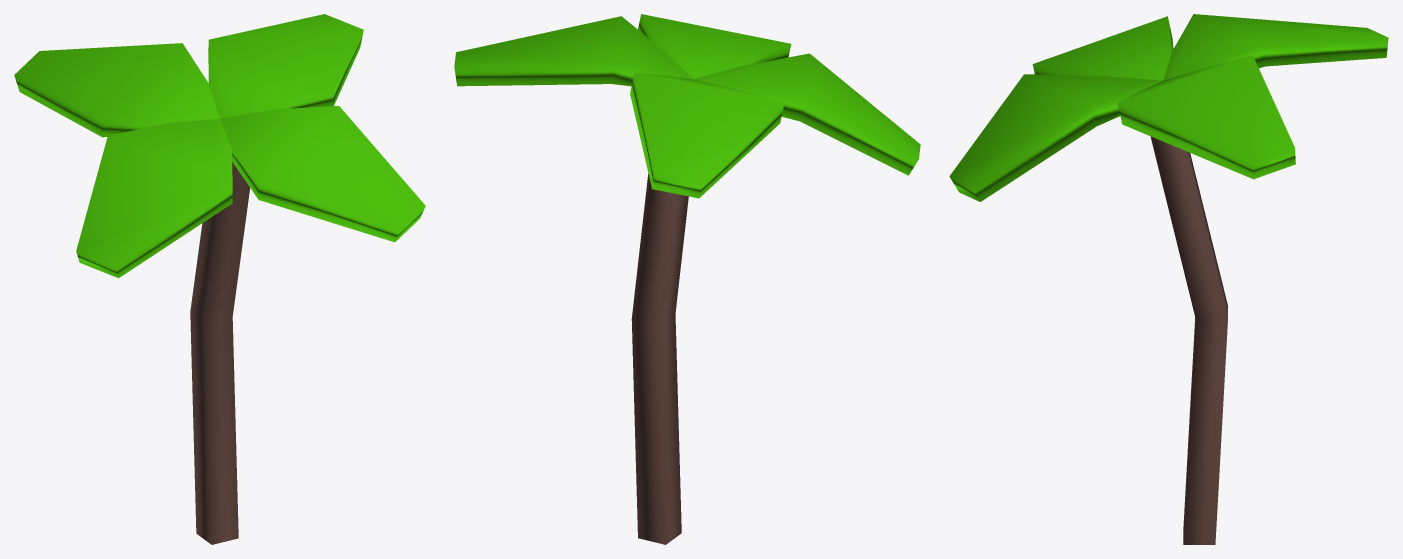
File: palm_tree_02.fbx
3 views of the same model, side by side, from view 1: azimuth 30°, elevation 25°; view 2: azimuth 150°, elevation 25°; view 3: azimuth 270°, elevation 25° (orthographic). The views are drawn at different scales.
Visible parts, largest first — view 1: palm_tree_02_pasted__pCube153, pCube174; view 2: palm_tree_02_pasted__pCube153, pCube174; view 3: palm_tree_02_pasted__pCube153, pCube174.
Part boxes in pixels (bbox=[...]): palm_tree_02_pasted__pCube153: bbox=[14, 14, 425, 278]; pCube174: bbox=[190, 162, 249, 544]; palm_tree_02_pasted__pCube153: bbox=[454, 14, 920, 198]; pCube174: bbox=[631, 173, 688, 544]; palm_tree_02_pasted__pCube153: bbox=[949, 14, 1388, 201]; pCube174: bbox=[1150, 136, 1227, 544].
Bounding box in the file's own units: 3.33 × 4.09 × 3.31.
